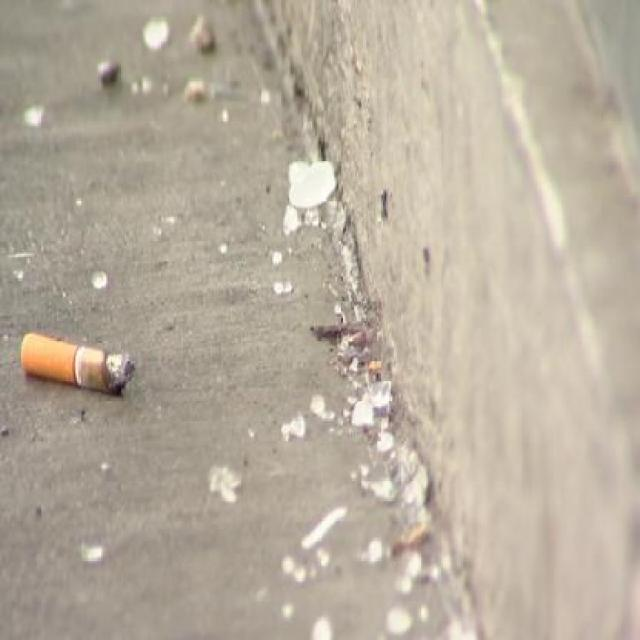cigarette: (15, 328, 144, 426)
